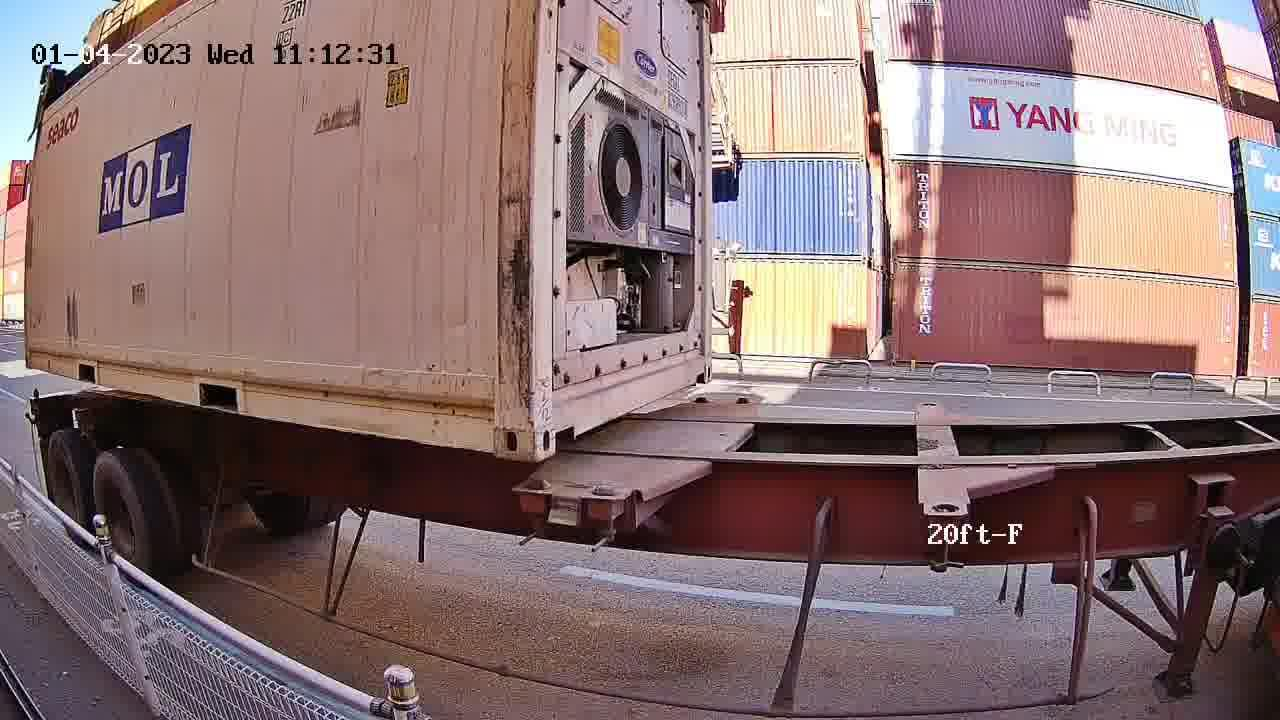Chassis: (517, 400, 710, 494), (586, 399, 755, 500)
Cone: (588, 484, 626, 546), (517, 479, 553, 540)
Hole_L: (533, 381, 585, 462)
Hole_R: (461, 380, 531, 459), (692, 346, 714, 387)
Tire: (94, 452, 149, 575), (48, 433, 88, 546)
